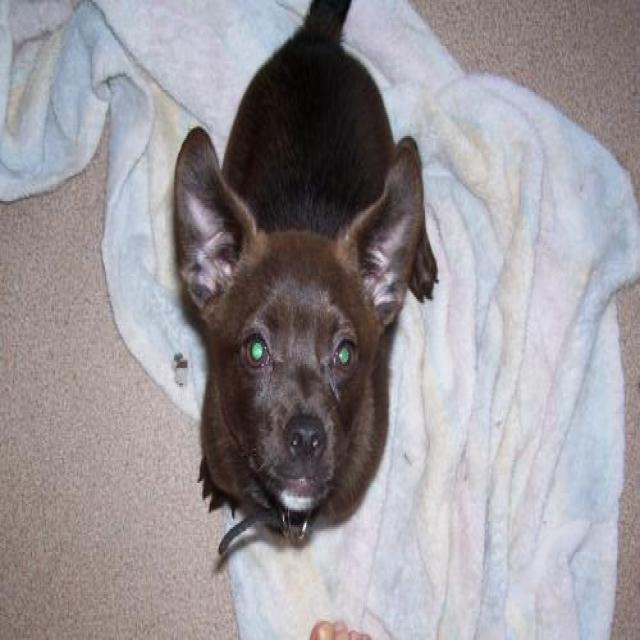dogs: (170, 0, 441, 564)
